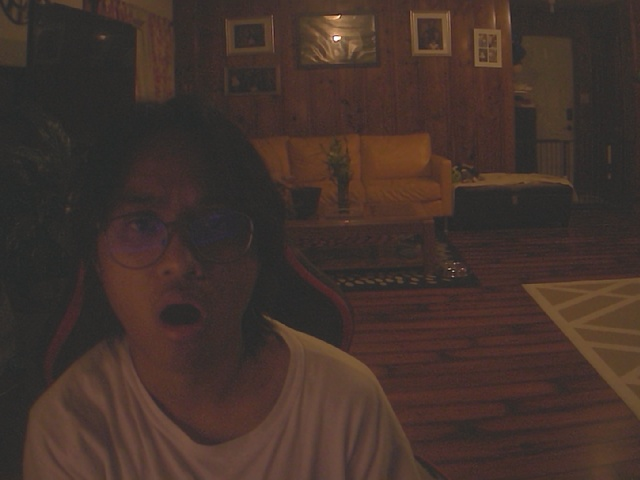fear: (76, 98, 286, 366)
